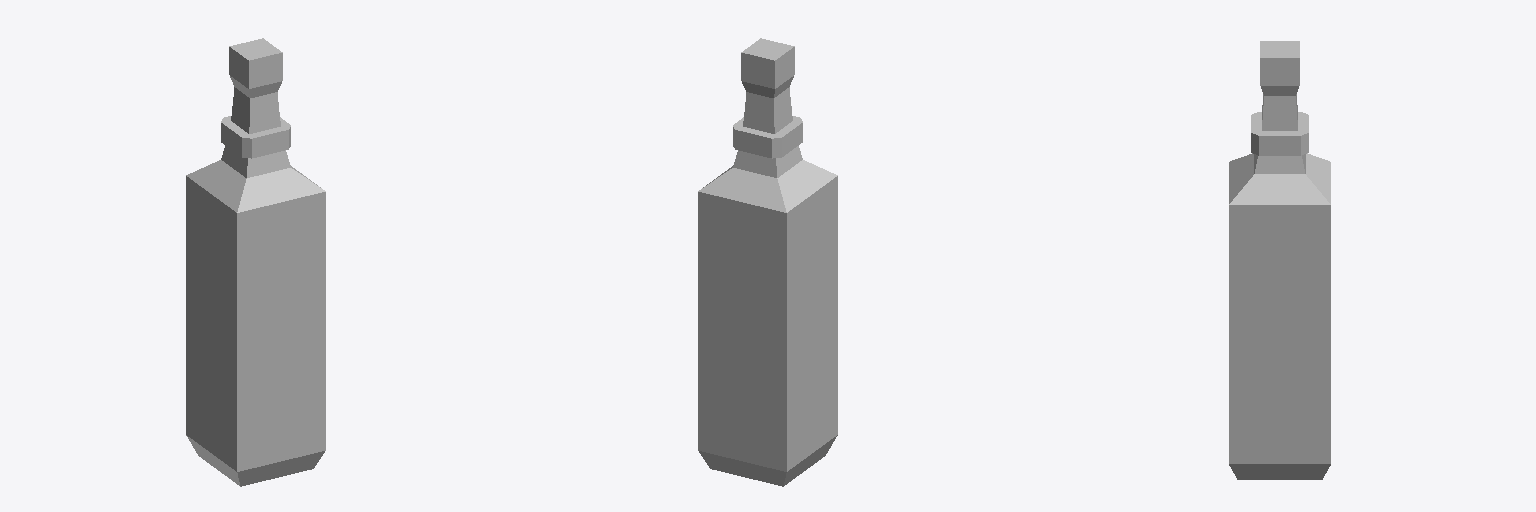
Rendered from bottle-oil.obj.
3 renders of one model, left to right at view 1: azimuth 30°, elevation 25°; view 2: azimuth 150°, elevation 25°; view 3: azimuth 270°, elevation 25°, orthographic.
Visible parts, largest first — view 1: bottle-oil; view 2: bottle-oil; view 3: bottle-oil.
Boxes of the visible parts, box(x1,y1,x2,y2) form: bottle-oil: box(186, 38, 325, 486); bottle-oil: box(698, 38, 837, 486); bottle-oil: box(1229, 41, 1330, 479).
Bounding box in the file's own units: 0.14 × 0.6218 × 0.14.